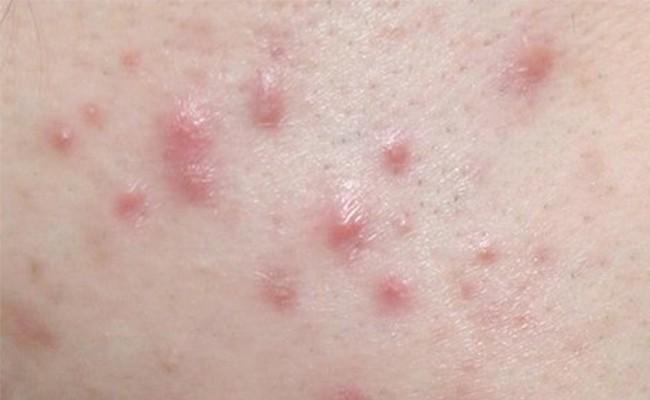papular: (328, 210, 392, 263), (248, 83, 309, 138), (112, 177, 163, 238), (384, 270, 422, 342), (385, 120, 417, 183)
sebo-crystan-conglo: (162, 82, 223, 216), (47, 119, 91, 189)
